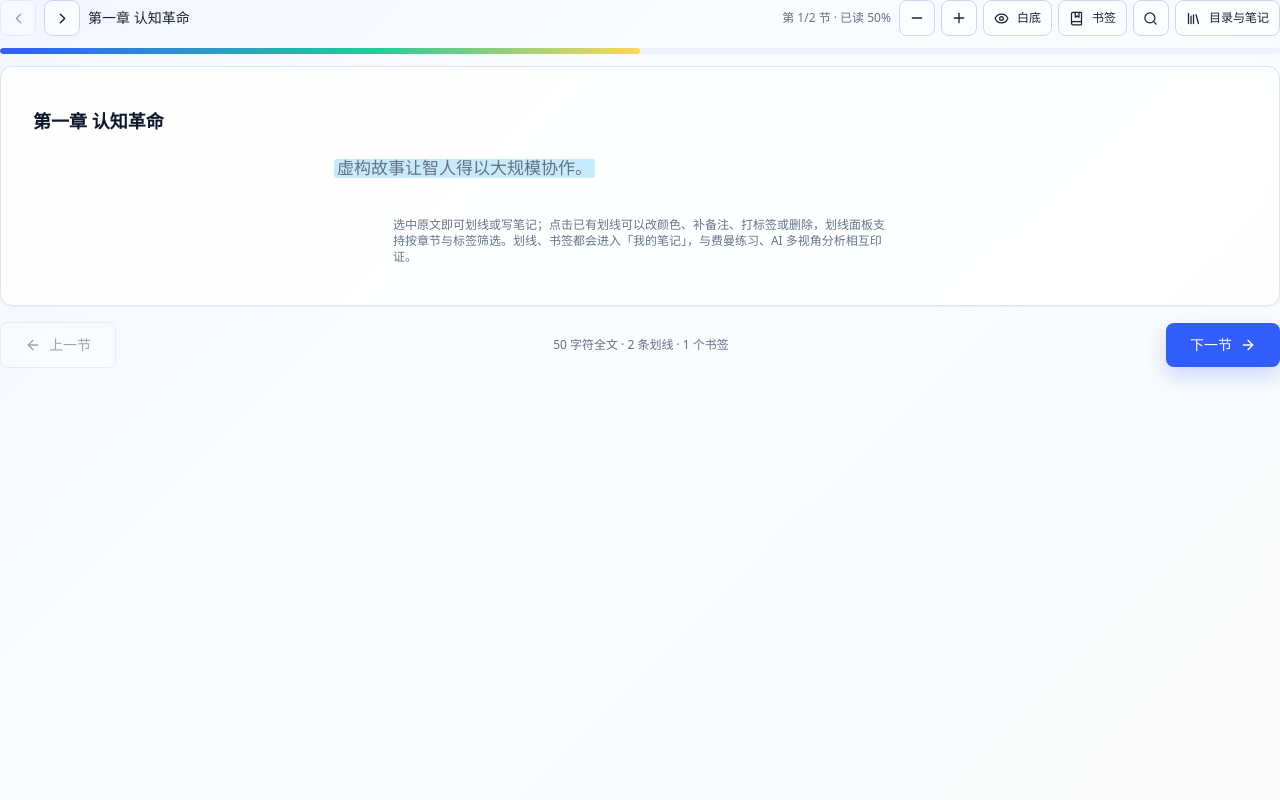
Test: BookReader highlights › filters the highlight list by chapter and by tag
Click the button "目录与笔记".
click(1228, 18)  # box [1175,0,1279,36]
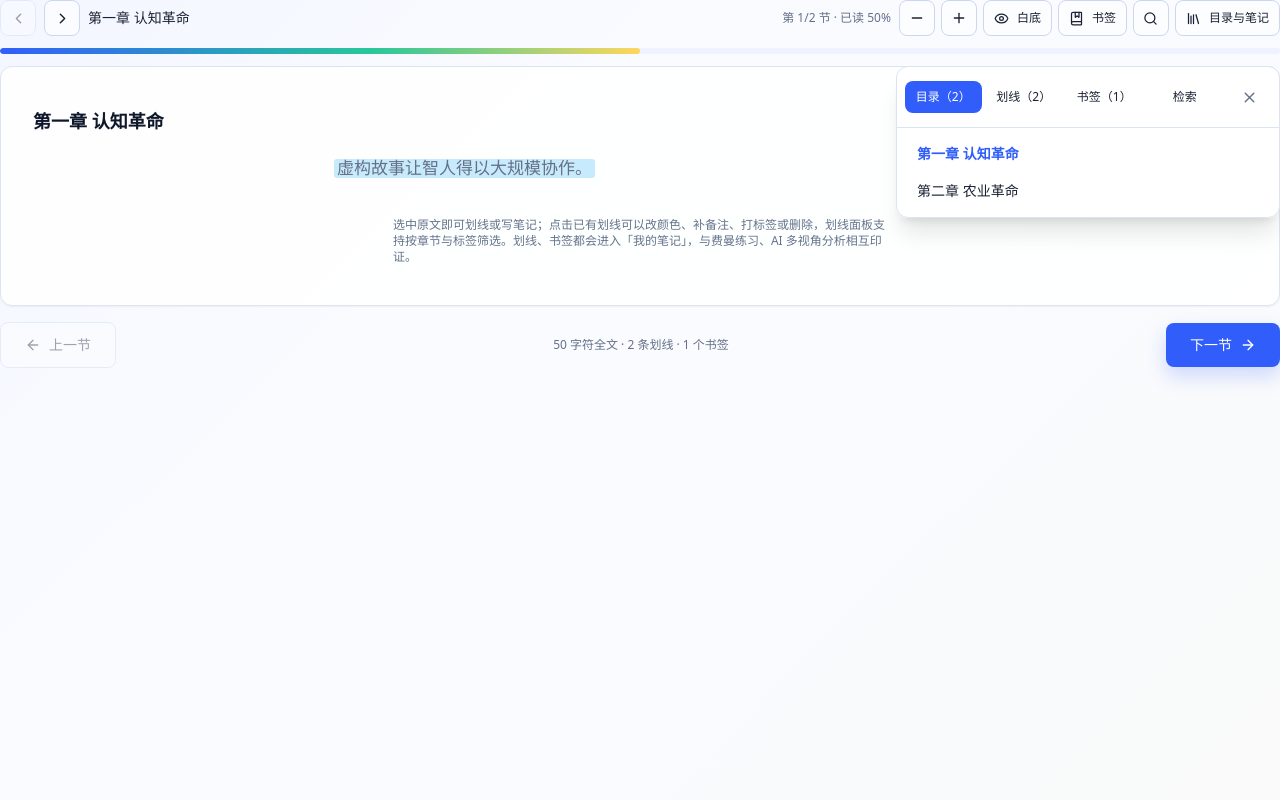
Click the button "划线（2）".
click(1024, 97)  # box [986,81,1062,113]
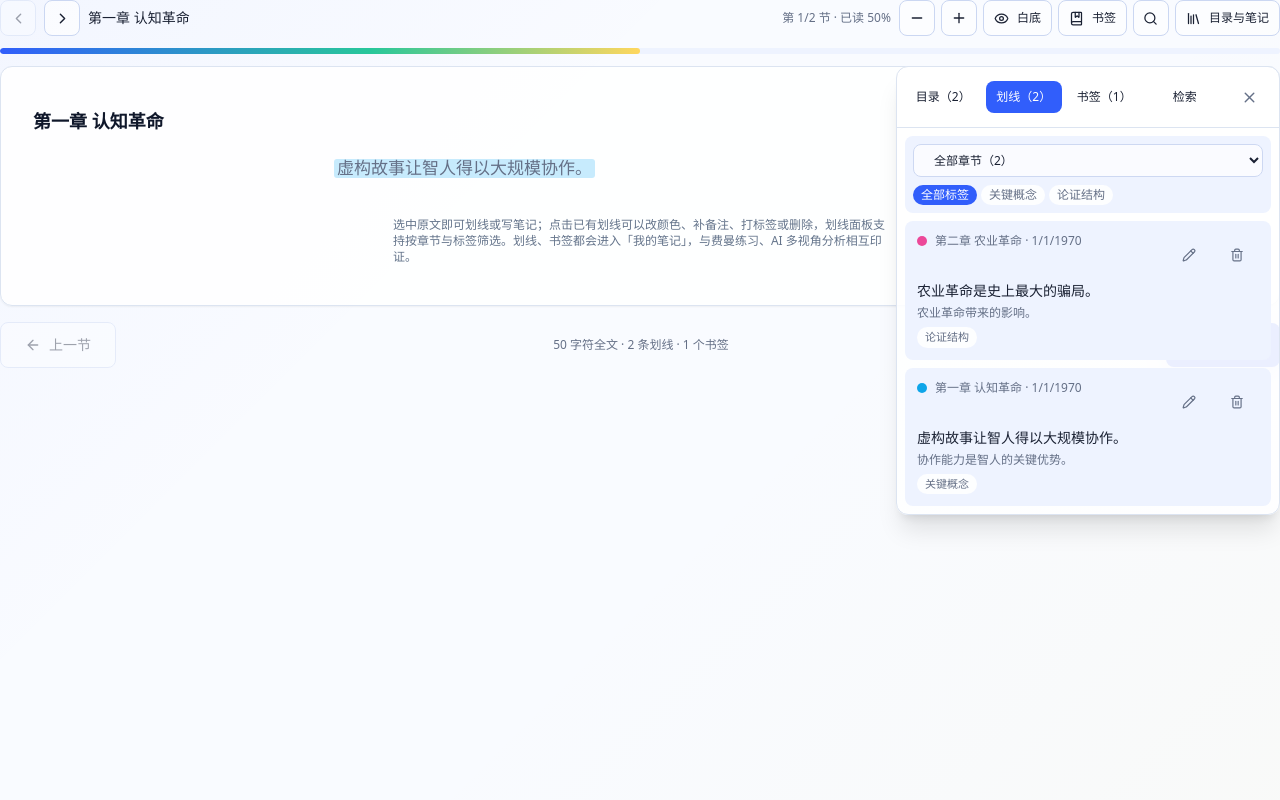
Select "第二章 农业革命" in the dropdown named "按章节筛选划线" at [1088, 160], box [913,144,1263,177]
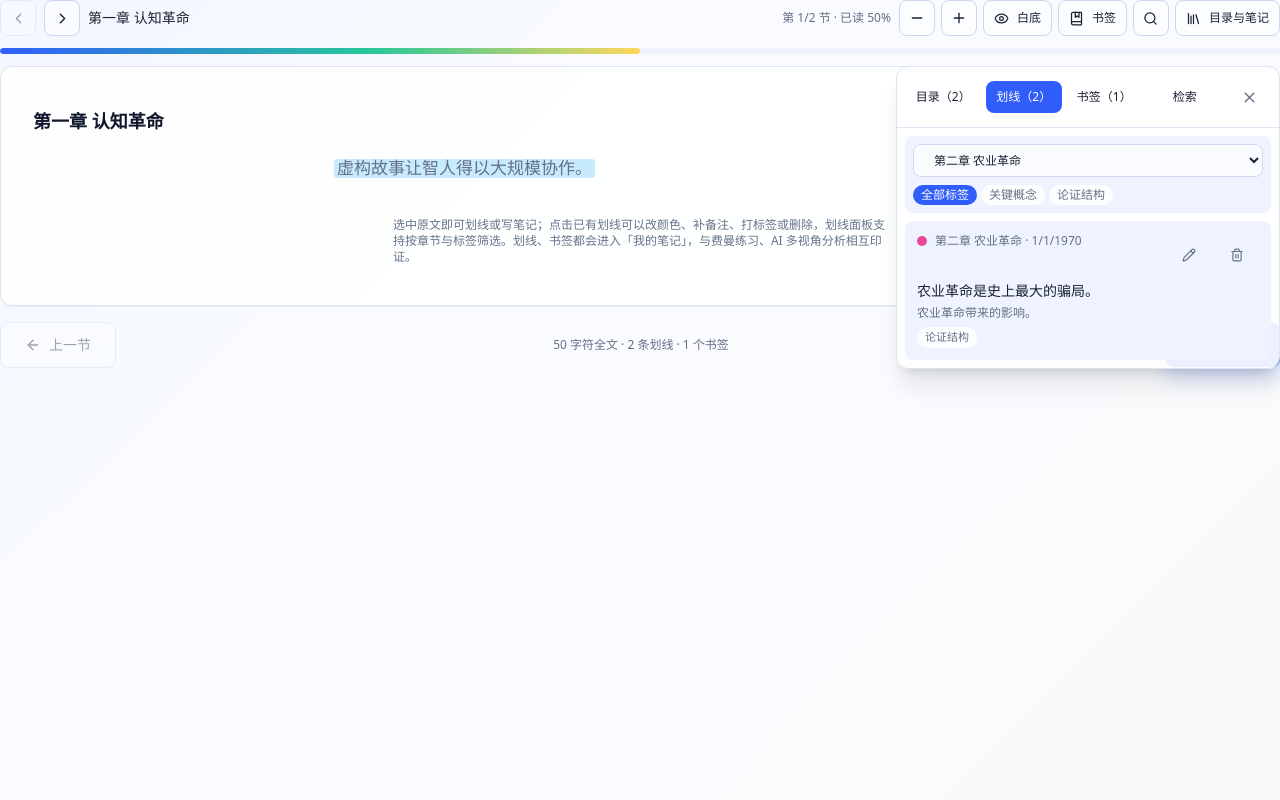
expect the text "农业革命是史上最大的骗局。" is shown: met, box [917,281,1099,300]
Select "全部章节（2）" in the dropdown named "按章节筛选划线" at [1088, 160], box [913,144,1263,177]
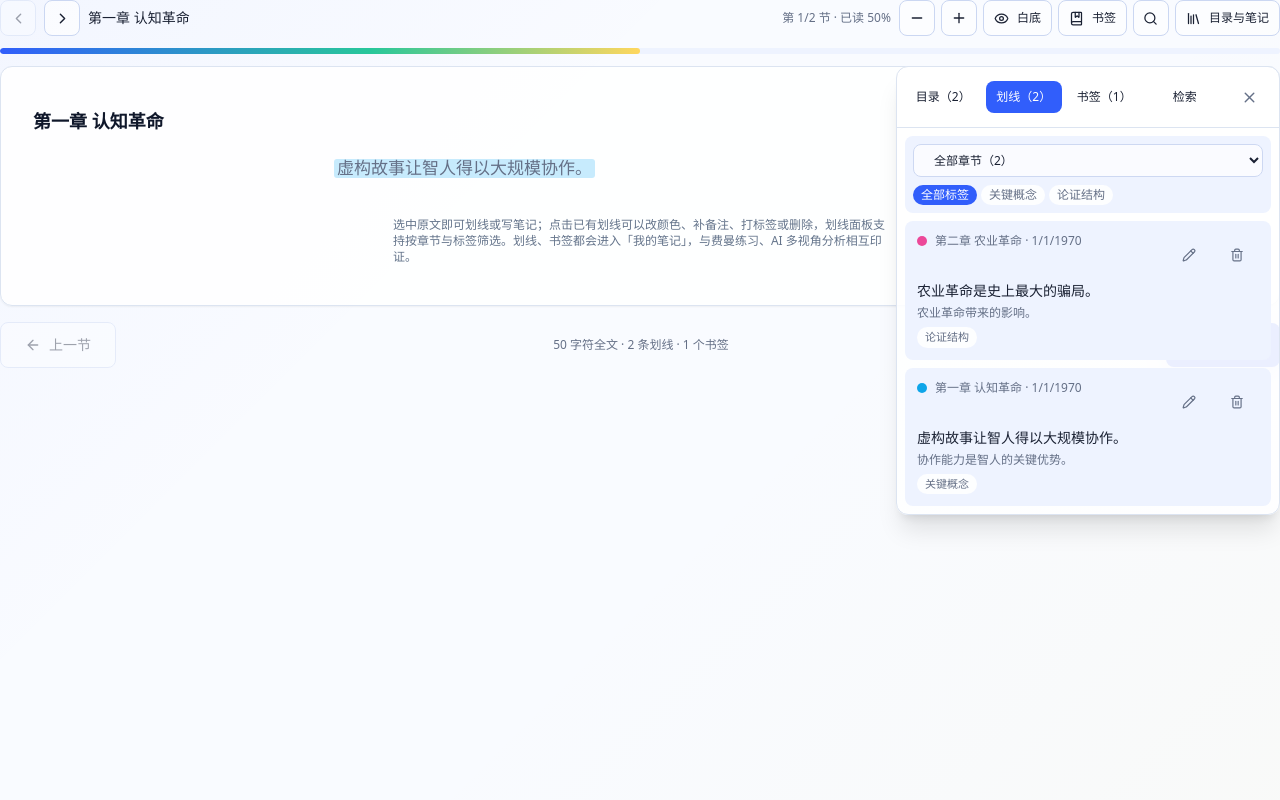
Click the button "关键概念".
click(1013, 195)  # box [981,185,1045,205]
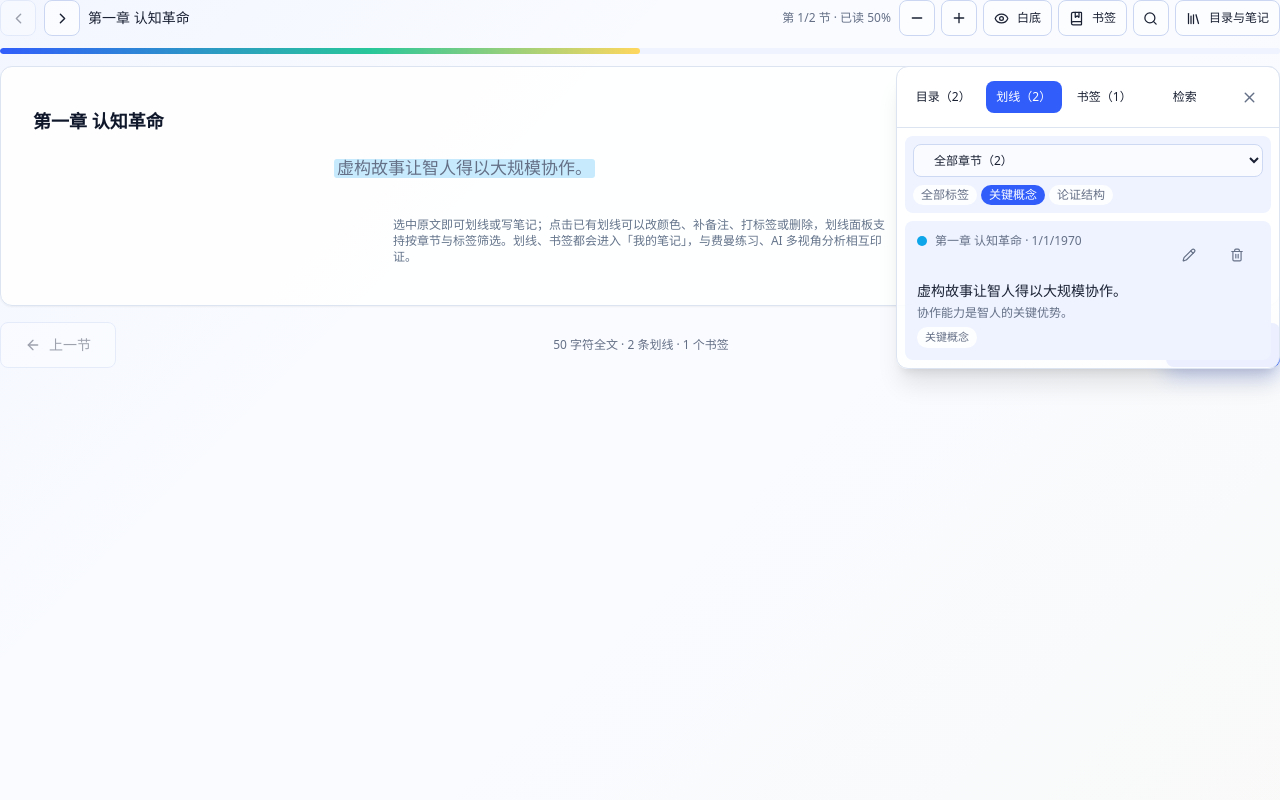
expect the text "虚构故事让智人得以大规模协作。" is shown: met, box [917,281,1127,300]
expect the text "农业革命是史上最大的骗局。" is gone: met
